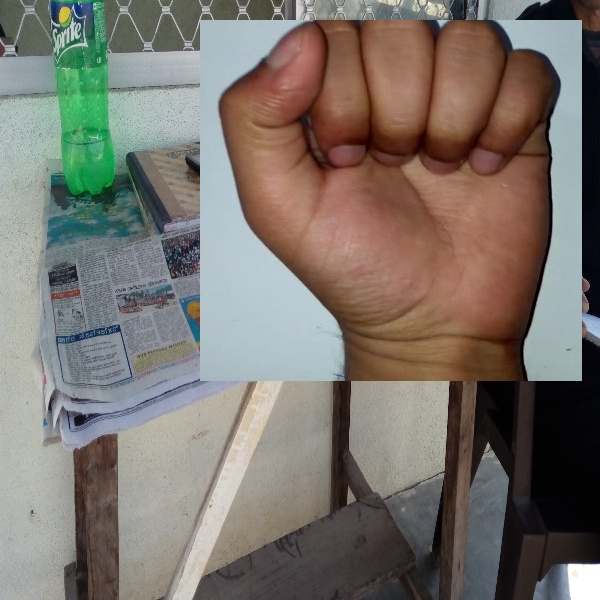A: (200, 20, 582, 381)
